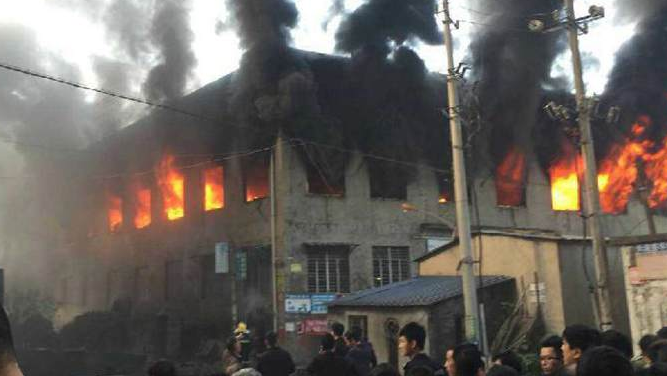fire: (591, 114, 667, 214), (544, 148, 591, 214), (155, 146, 193, 226), (128, 162, 151, 228), (202, 166, 225, 224)
